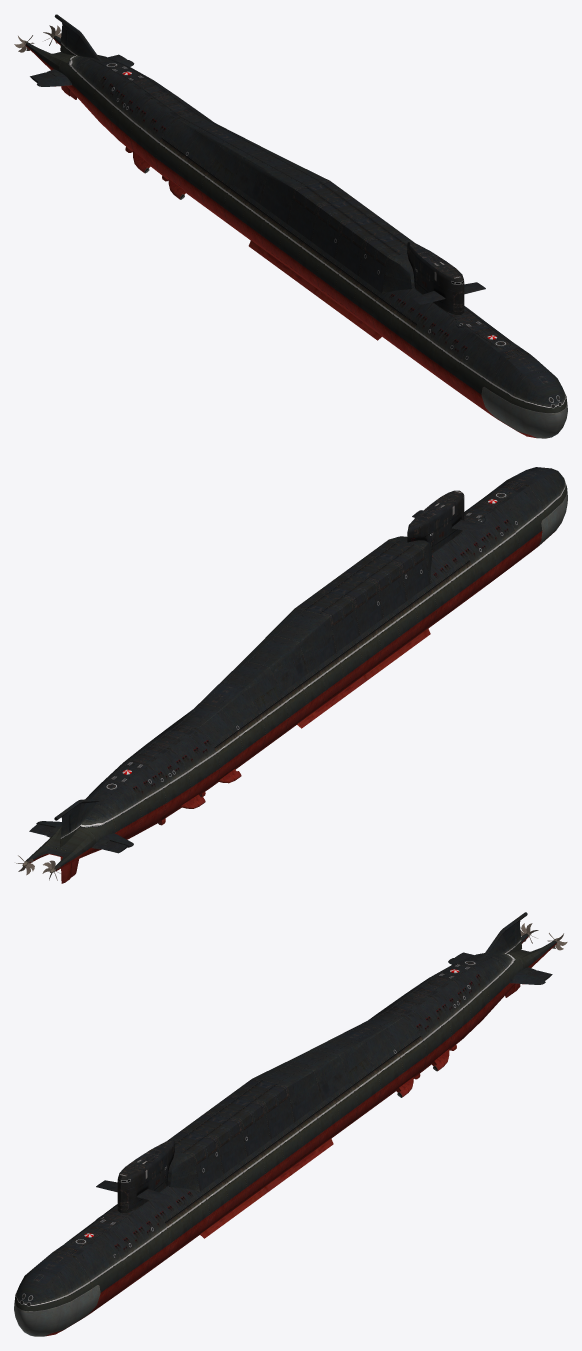
Rendered from delta_iv_class_submarine.glb.
3 renders of one model, top to bottom at view 1: azimuth 30°, elevation 25°; view 2: azimuth 150°, elevation 25°; view 3: azimuth 330°, elevation 25°, orthographic.
Parts seen in each view (by area): view 1: Object_2; view 2: Object_2; view 3: Object_2.
Boxes of the visible parts, x1,y1,x2,y2 form: Object_2: (14,14,567,438); Object_2: (16,467,567,883); Object_2: (14,912,567,1336).
Bounding box in the file's own units: 0.256 × 0.2636 × 2.42.
1 material, 1 textured.
